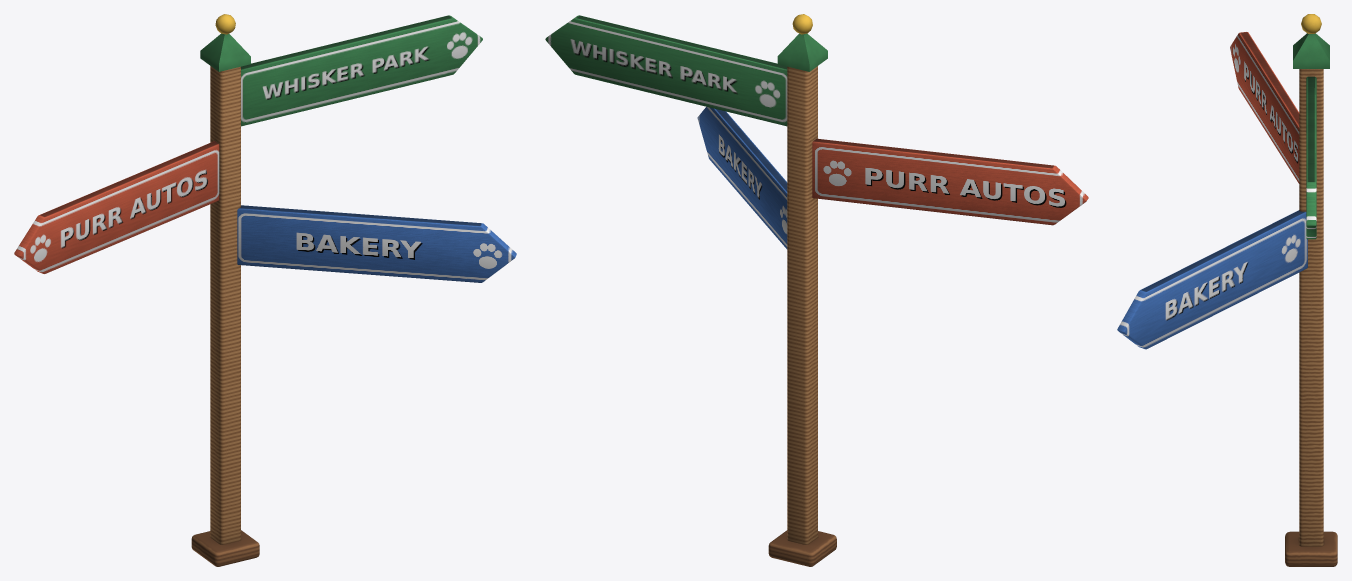
The model's file is SignPost.fbx.
3 views of the same model, side by side, from view 1: azimuth 30°, elevation 25°; view 2: azimuth 150°, elevation 25°; view 3: azimuth 270°, elevation 25° (orthographic).
Parts seen in each view (by area): view 1: SignPost; view 2: SignPost; view 3: SignPost.
Boxes of the visible parts, x1=… form: SignPost: x1=14, y1=14, x2=516, y2=566; SignPost: x1=545, y1=14, x2=1088, y2=566; SignPost: x1=1117, y1=14, x2=1337, y2=566.
Bounding box in the file's own units: 6.68 × 6.84 × 2.52.
Materials: 1 (1 with a texture image).
